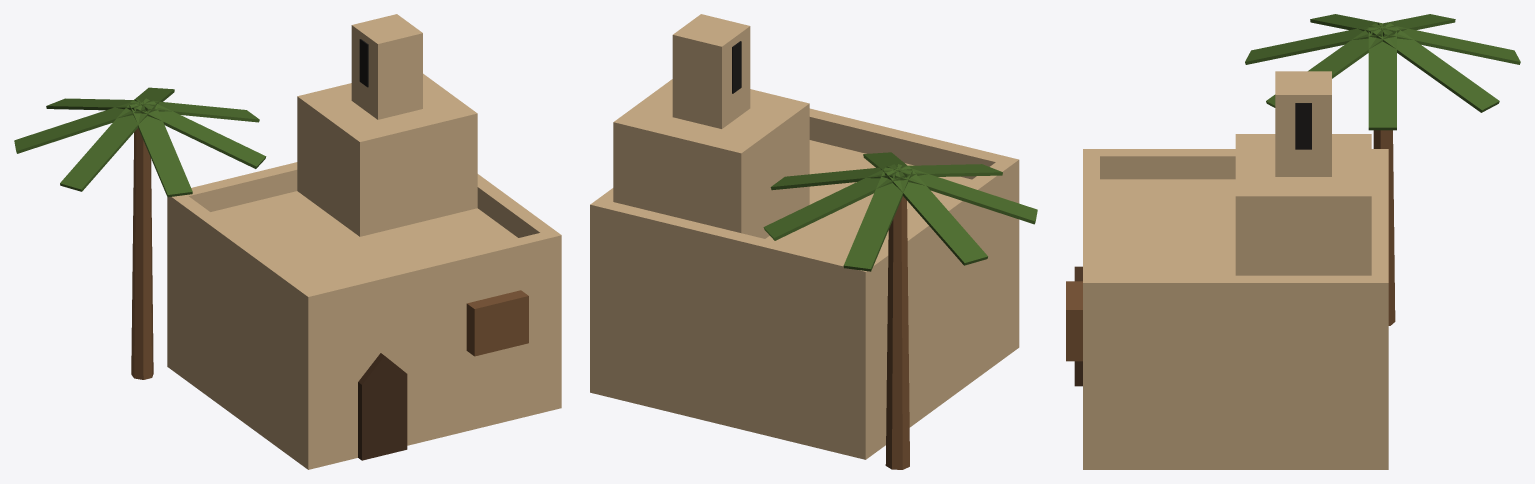
The model's file is house.glb.
3 renders of one model, left to right at view 1: azimuth 30°, elevation 25°; view 2: azimuth 150°, elevation 25°; view 3: azimuth 270°, elevation 25°, orthographic. The views are drawn at different scales.
Parts seen in each view (by area): view 1: House; view 2: House; view 3: House.
Boxes of the visible parts, x1,y1,x2,y2 form: House: (14,14,561,469); House: (590,14,1037,469); House: (1066,14,1520,469).
Size of the model in its own units: 8.51 by 6.8 by 8.04.
